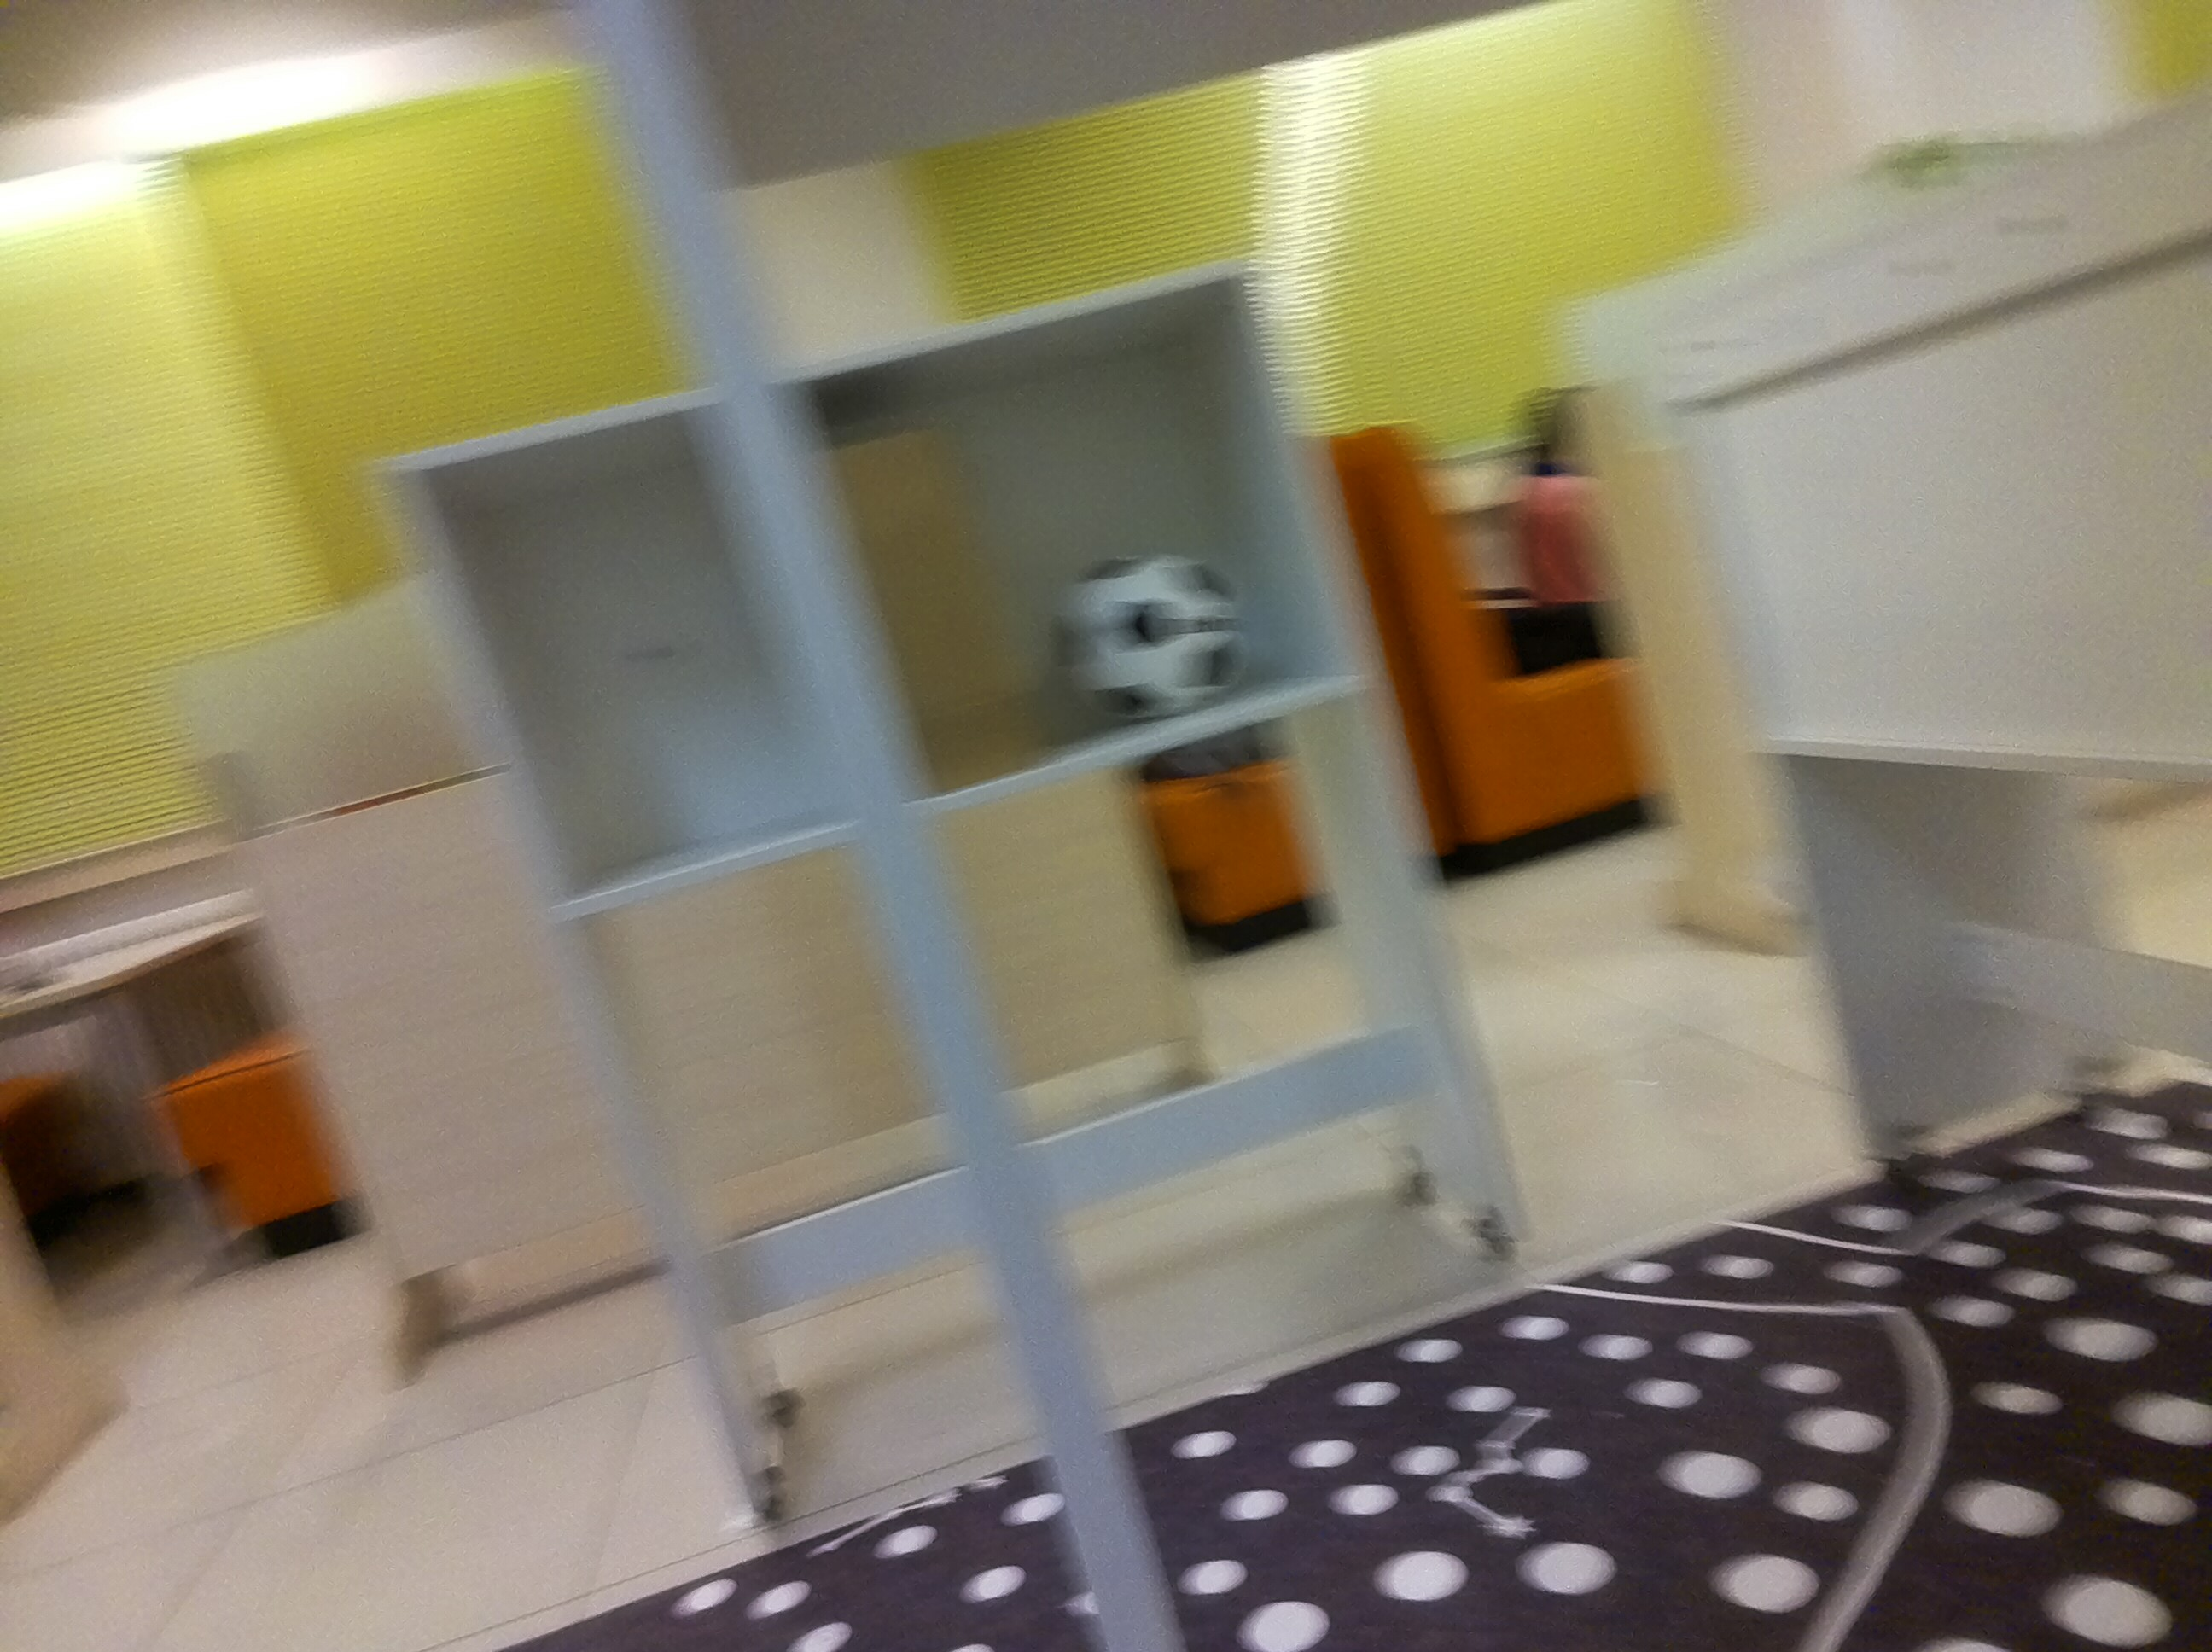football: (1044, 545, 1256, 720)
